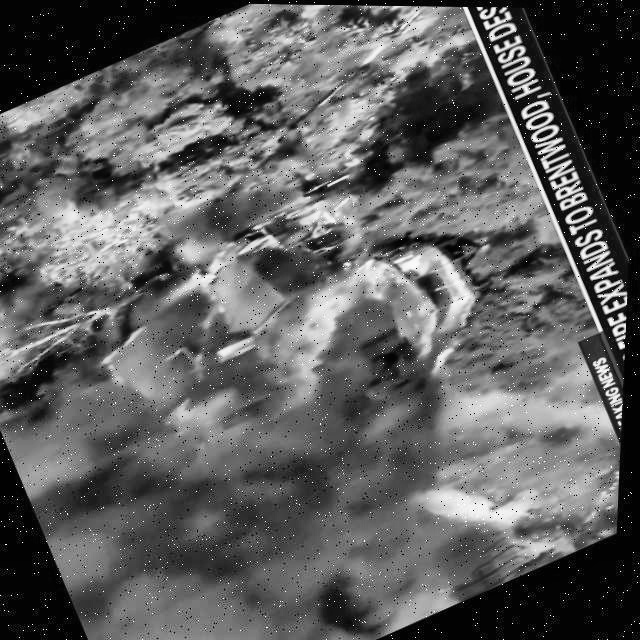Smoke: (45, 359, 491, 640)
